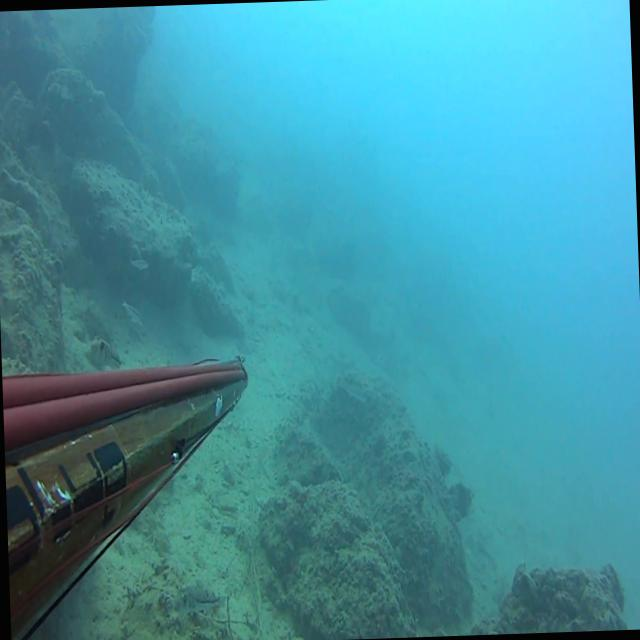Balon Baligi: (172, 583, 228, 613), (90, 333, 121, 369), (337, 377, 367, 402), (121, 298, 142, 326), (129, 256, 147, 271)
